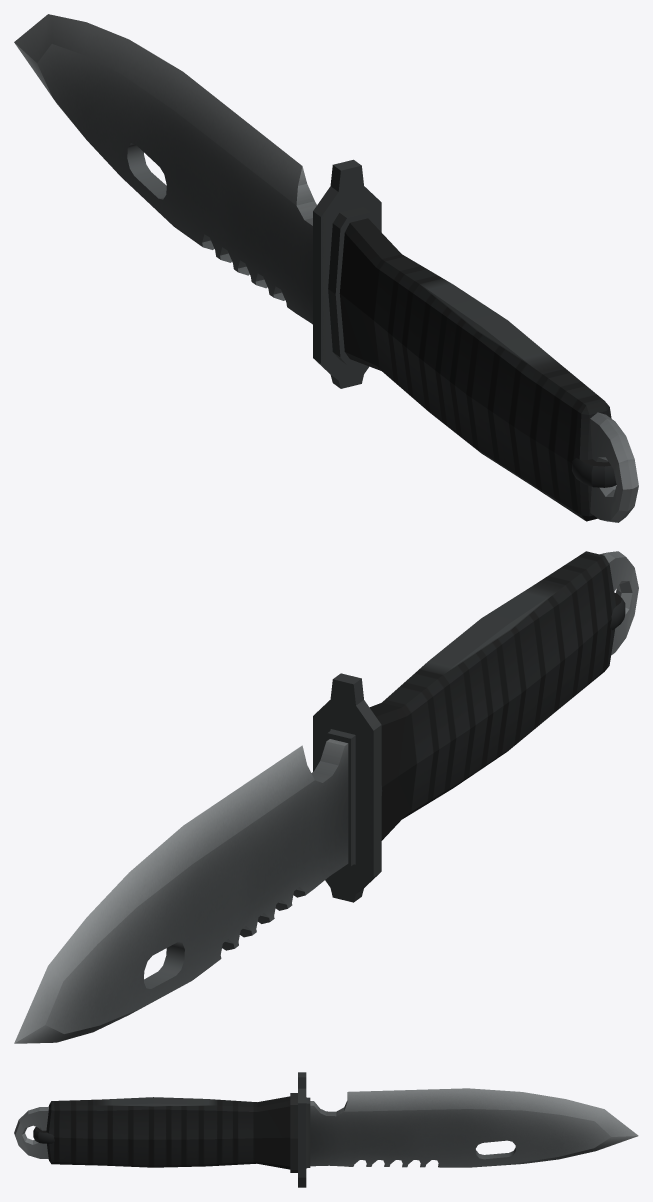
File: Knife.FBX
3 renders of one model, top to bottom at view 1: azimuth 30°, elevation 25°; view 2: azimuth 150°, elevation 25°; view 3: azimuth 270°, elevation 25°, orthographic. The views are drawn at different scales.
Parts seen in each view (by area): view 1: Knife_01; view 2: Knife_01; view 3: Knife_01.
Boxes of the visible parts, box(x1,y1,x2,y2) form: Knife_01: box(14, 14, 638, 522); Knife_01: box(14, 551, 638, 1043); Knife_01: box(14, 1072, 638, 1187).
Bounding box in the file's own units: 0.0432 × 0.149 × 0.7653.
